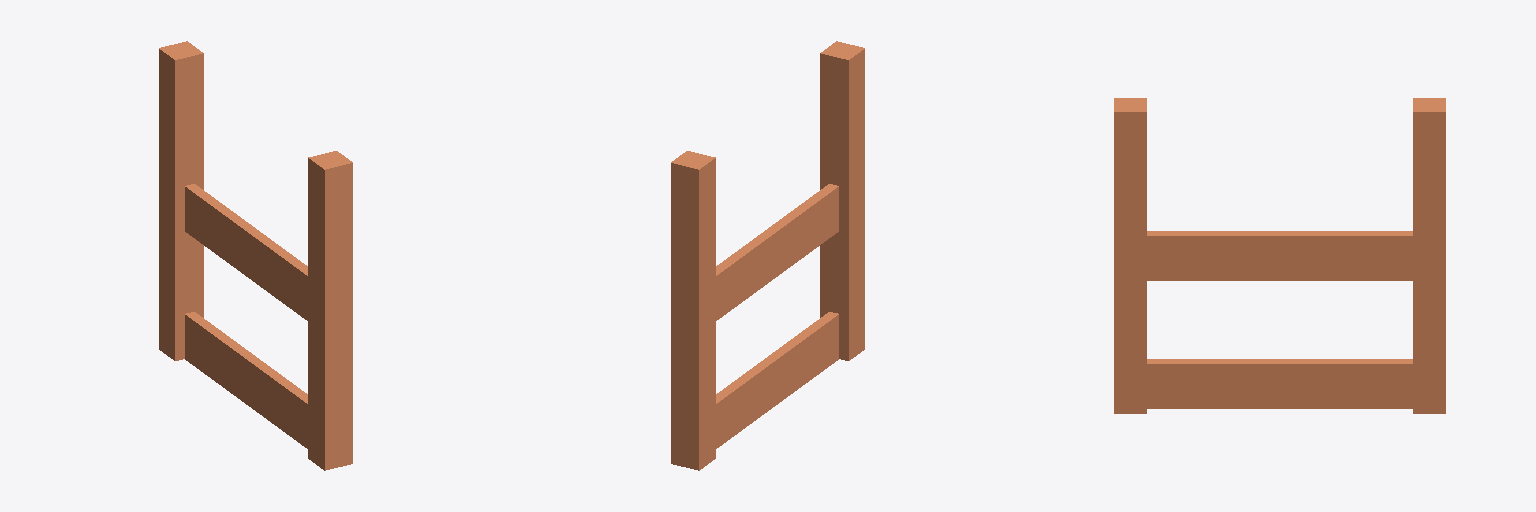
The model's file is polesHorizontal.obj.
The picture shows the model from 3 angles: view 1: azimuth 30°, elevation 25°; view 2: azimuth 150°, elevation 25°; view 3: azimuth 270°, elevation 25°; orthographic projection.
Parts seen in each view (by area): view 1: polesHorizontal; view 2: polesHorizontal; view 3: polesHorizontal.
Boxes of the visible parts, x1=… form: polesHorizontal: x1=159, y1=41, x2=352, y2=470; polesHorizontal: x1=671, y1=41, x2=864, y2=470; polesHorizontal: x1=1114, y1=98, x2=1445, y2=413.
Bounding box in the file's own units: 0.1 × 1 × 1.